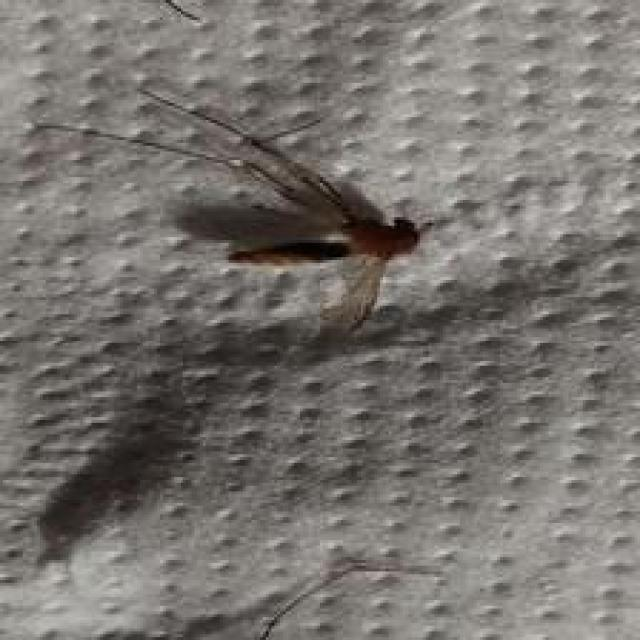Culex: (24, 80, 444, 337)
